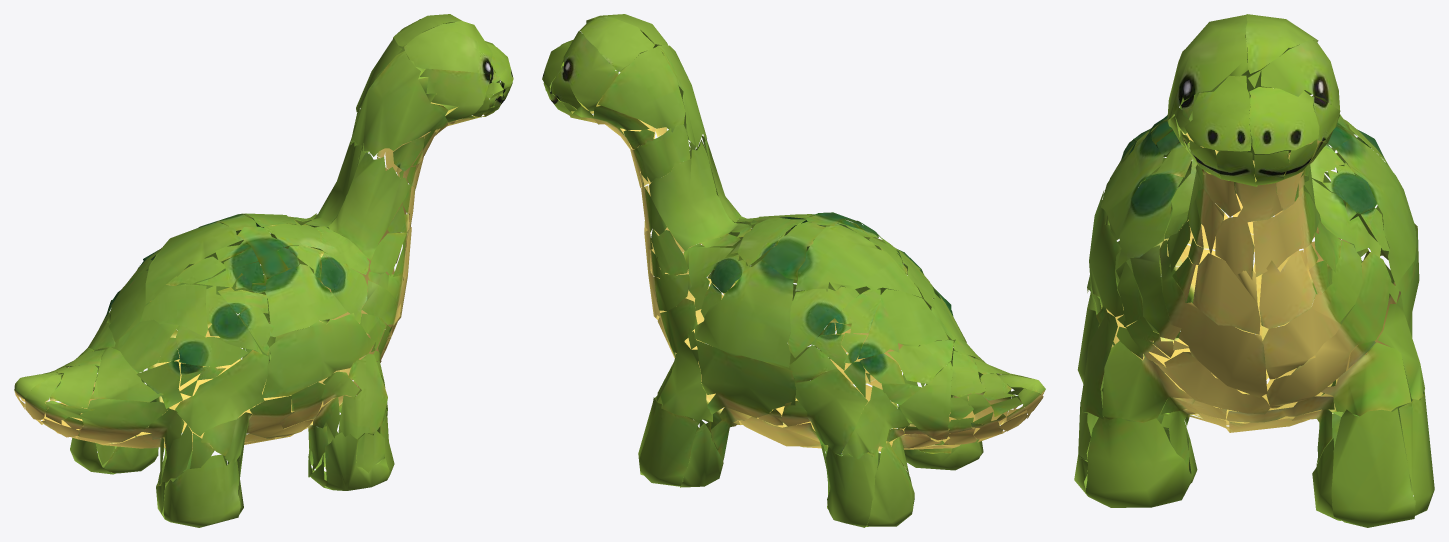
Rendered from toy_dino.glb.
The picture shows the model from 3 angles, left to right: view 1: azimuth 30°, elevation 25°; view 2: azimuth 150°, elevation 25°; view 3: azimuth 270°, elevation 25°; orthographic projection. The views are drawn at different scales.
Parts seen in each view (by area): view 1: toy_dino; view 2: toy_dino; view 3: toy_dino.
Part boxes in pixels (left/top/right/bottom): toy_dino: left=14, top=14, right=513, bottom=527; toy_dino: left=542, top=14, right=1045, bottom=527; toy_dino: left=1074, top=14, right=1434, bottom=527.
Bounding box in the file's own units: 0.075 × 0.0578 × 0.0337.
1 material, 1 textured.
